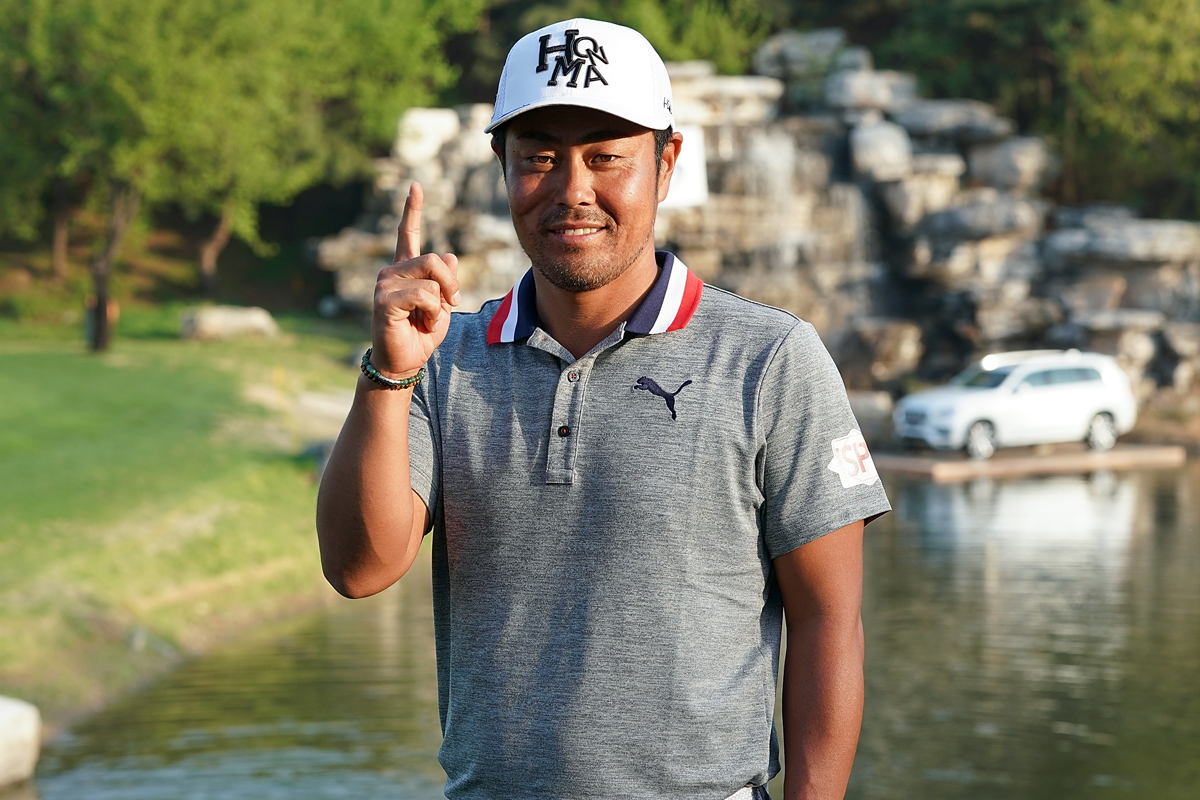face: (506, 114, 680, 294)
hand: (373, 178, 460, 371)
